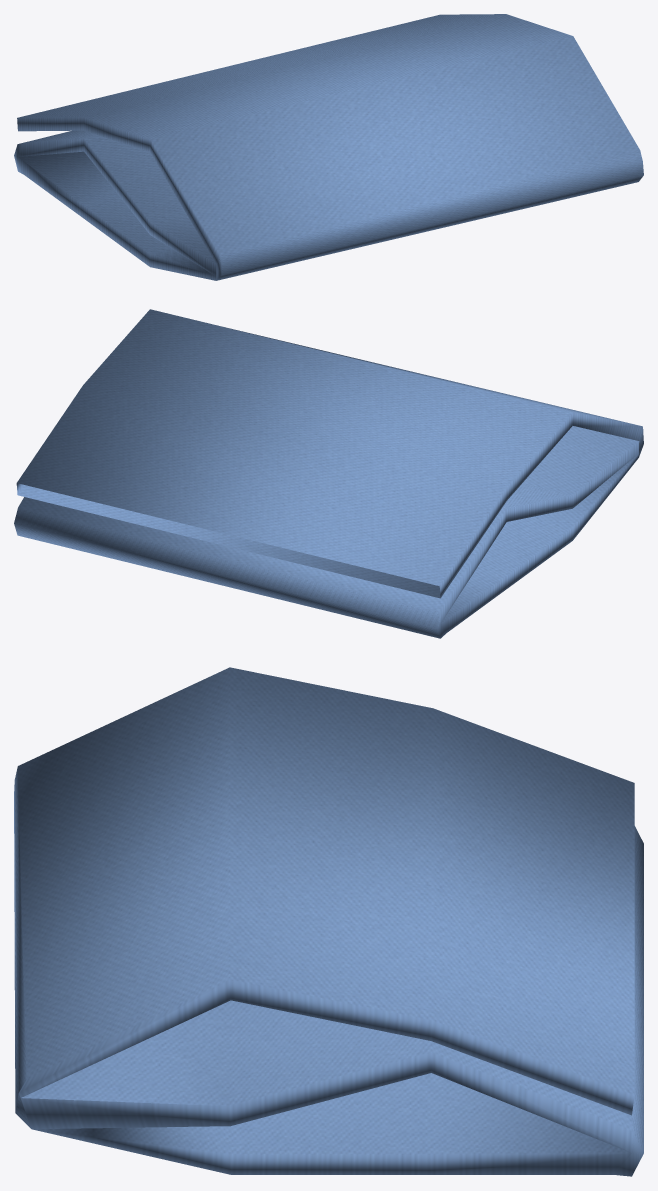
Rendered from Blanket_G.FBX.
3 renders of one model, top to bottom at view 1: azimuth 30°, elevation 25°; view 2: azimuth 150°, elevation 25°; view 3: azimuth 270°, elevation 25°, orthographic. The views are drawn at different scales.
Visible parts, largest first — view 1: Blanket; view 2: Blanket; view 3: Blanket.
Boxes of the visible parts, <box> form: Blanket: <box>14,14,643,280</box>; Blanket: <box>14,309,643,638</box>; Blanket: <box>14,667,643,1176</box>.
Size of the model in its own units: 123 by 35.98 by 105.
